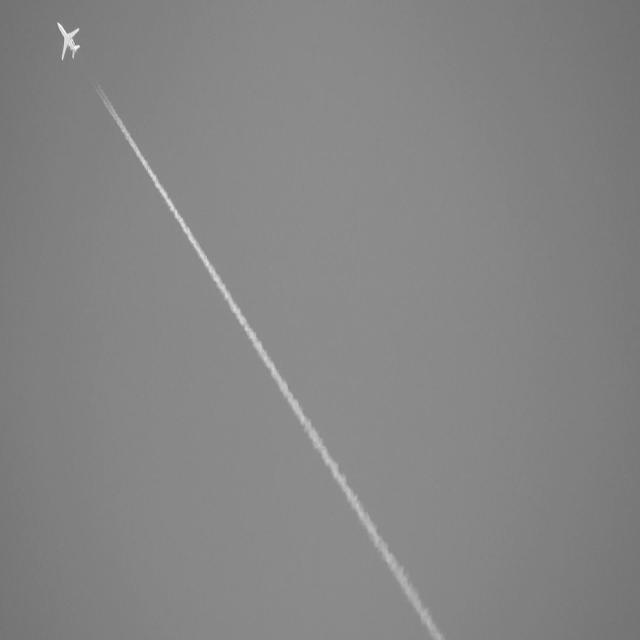aeroplane: (58, 15, 83, 68)
